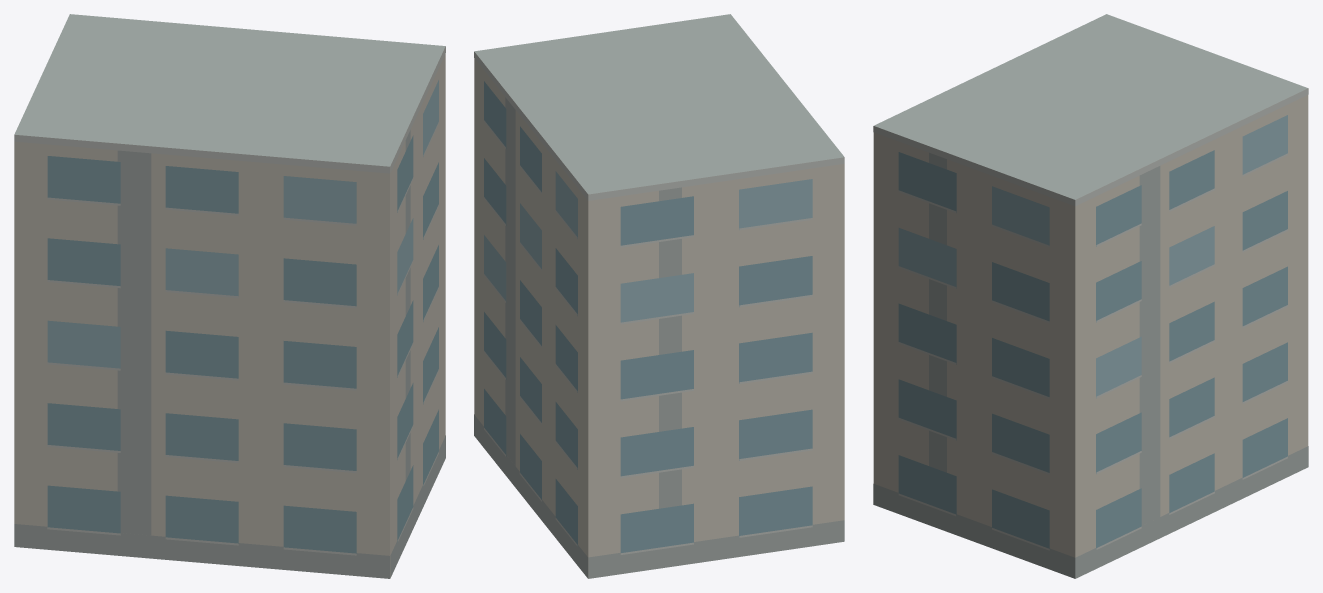
Rendered from survey-upis-32886997.glb.
The picture shows the model from 3 angles, left to right: view 1: azimuth 30°, elevation 25°; view 2: azimuth 150°, elevation 25°; view 3: azimuth 270°, elevation 25°; orthographic projection. The views are drawn at different scales.
Visible parts, largest first — view 1: survey-upis-32886997.tmp; view 2: survey-upis-32886997.tmp; view 3: survey-upis-32886997.tmp.
Boxes of the visible parts, x1=… form: survey-upis-32886997.tmp: x1=14, y1=14, x2=445, y2=578; survey-upis-32886997.tmp: x1=474, y1=14, x2=844, y2=578; survey-upis-32886997.tmp: x1=873, y1=14, x2=1308, y2=578.
Bounding box in the file's own units: 15.16 × 14.4 × 14.98.
